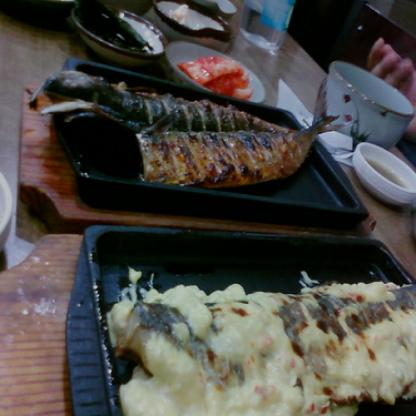Peixe: (30, 70, 338, 228)
